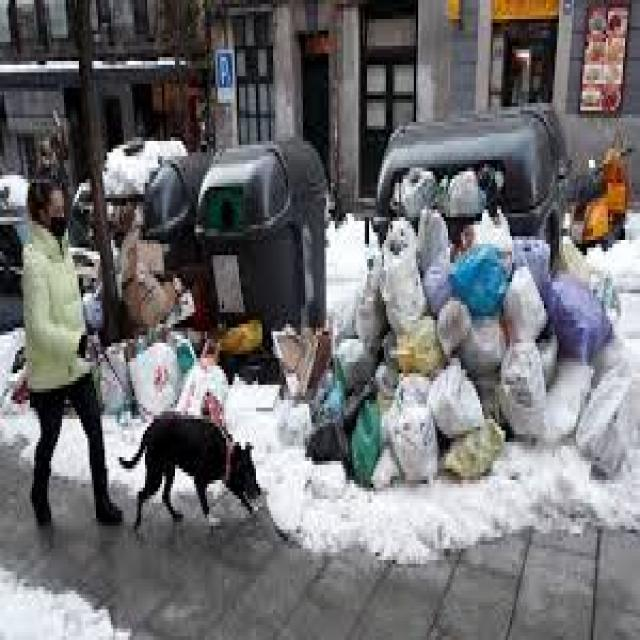garbage: (279, 164, 635, 486), (79, 208, 312, 406)
